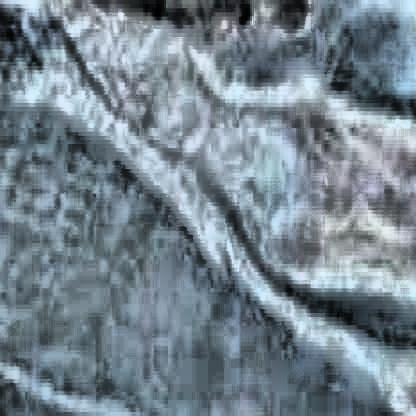sheen: (25, 2, 416, 416)
